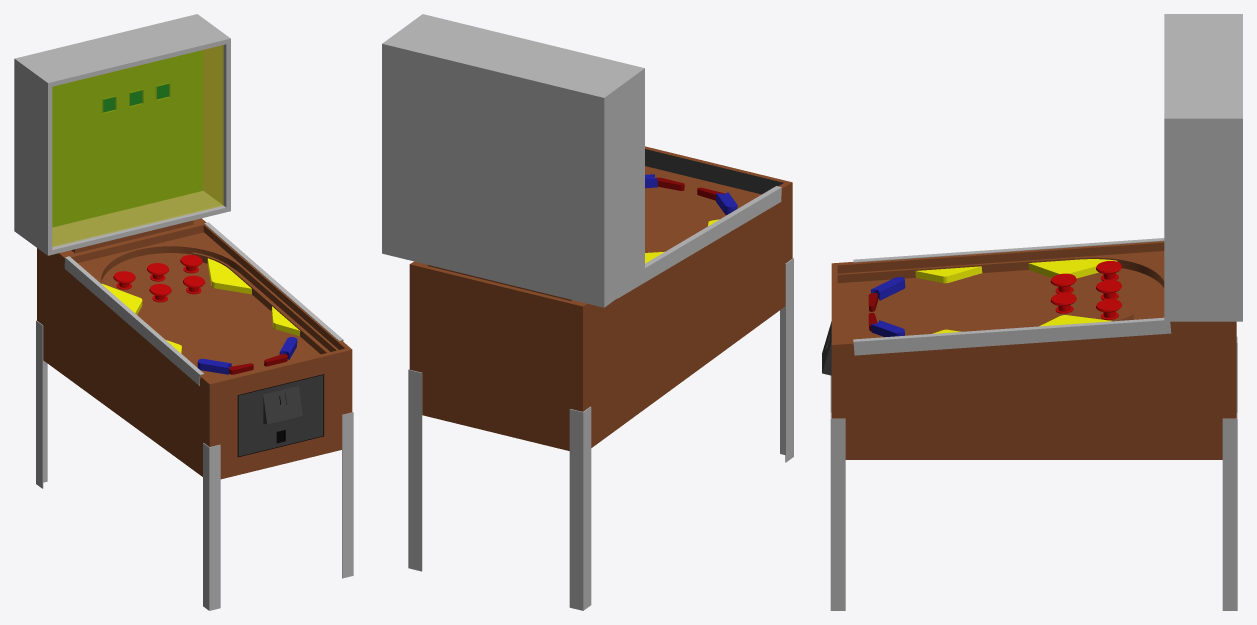
File: Pinball.glb
3 renders of one model, left to right at view 1: azimuth 30°, elevation 25°; view 2: azimuth 150°, elevation 25°; view 3: azimuth 270°, elevation 25°, orthographic. The views are drawn at different scales.
Visible parts, largest first — view 1: Solide1 (×10); view 2: Solide1 (×7); view 3: Solide1 (×7).
Part boxes in pixels (x1,y1,x2,y2): Solide1 (×10): [14, 14, 353, 610]; Solide1 (×7): [382, 14, 793, 610]; Solide1 (×7): [822, 14, 1242, 610].
Bounding box in the file's own units: 0.82 × 1.84 × 1.39.
